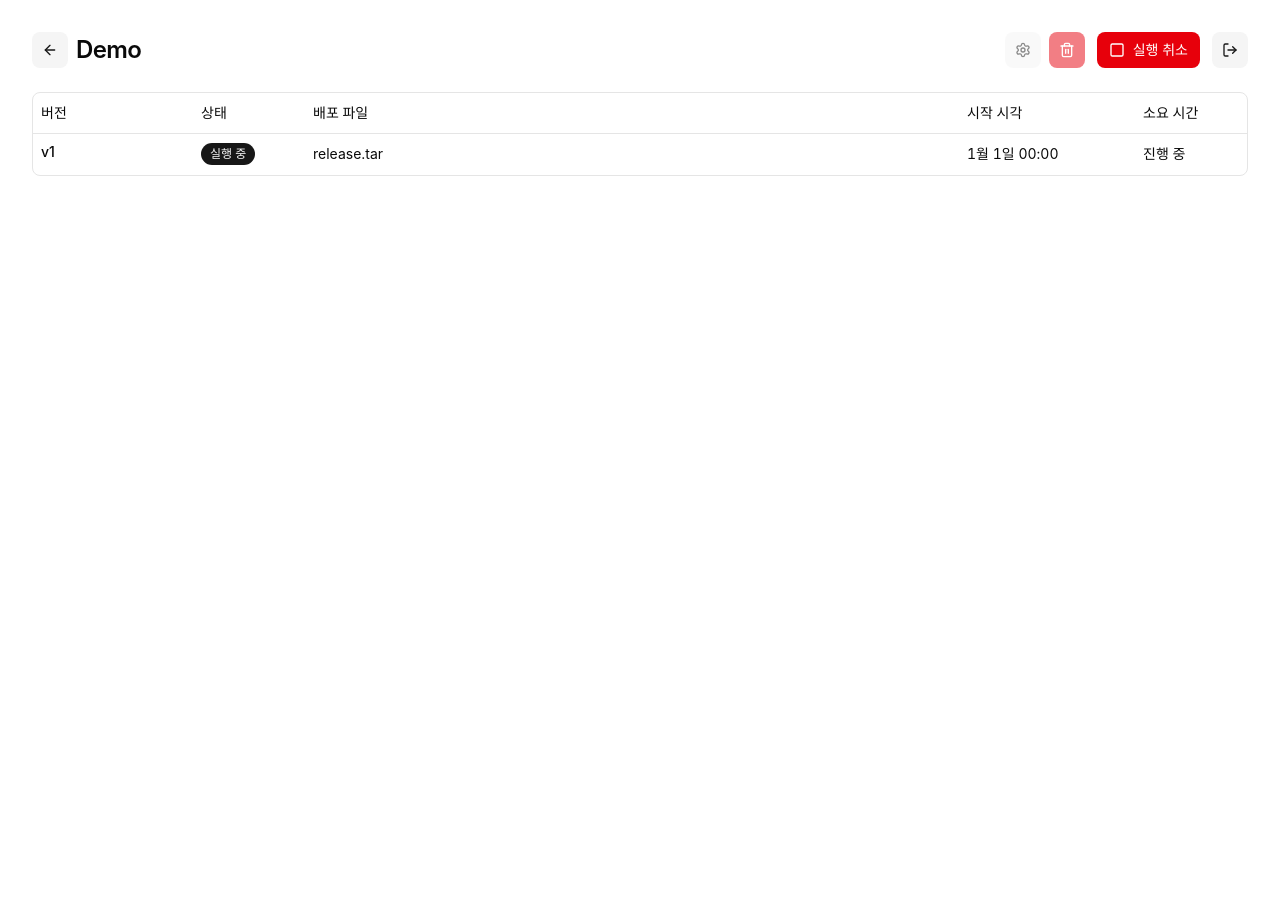
it: React deployment console › project switching discards a late log response and clears the selected file
Expected: the heading "Demo" is shown, [76, 32, 141, 68]
Click the link "v1": (48, 152) [41, 142, 55, 162]
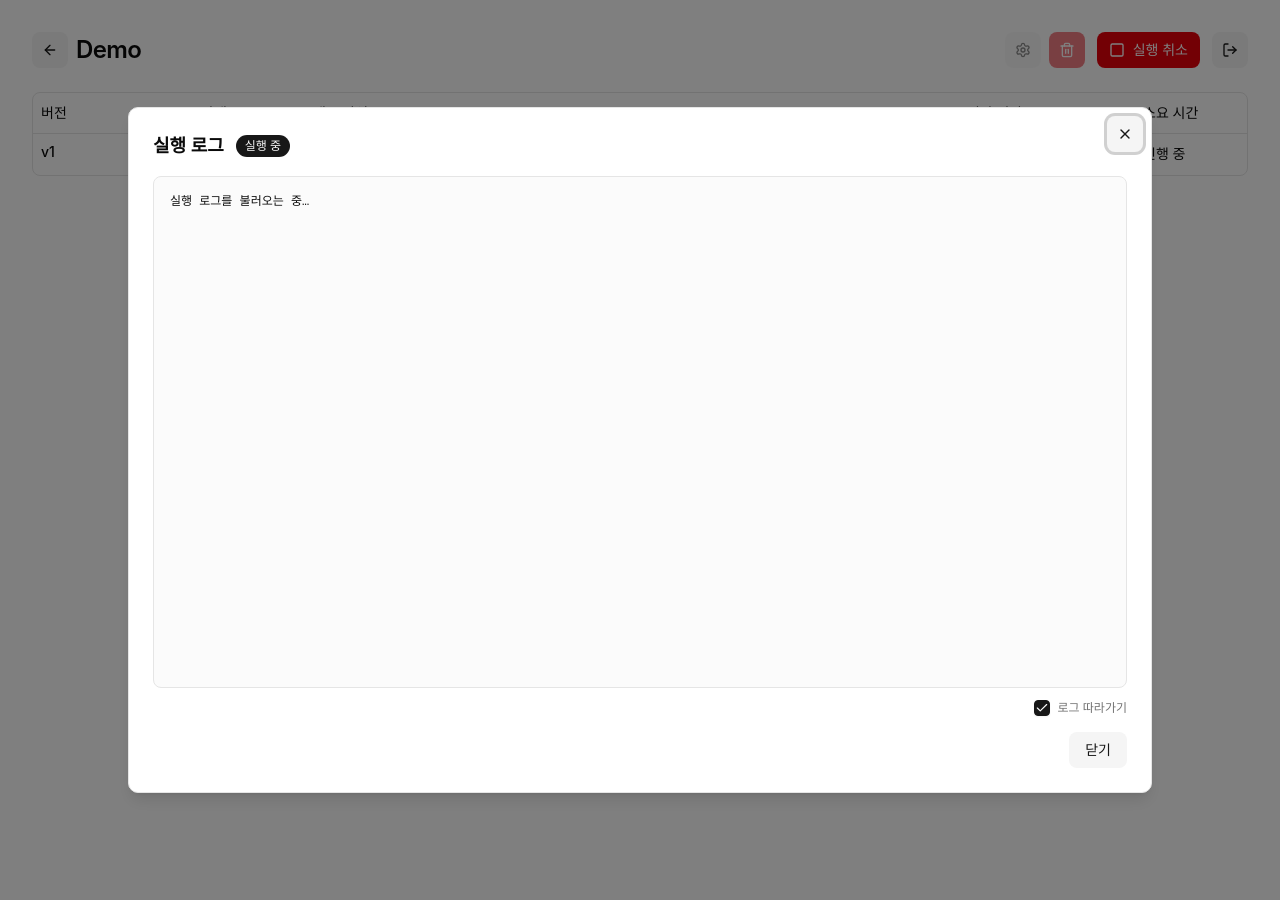
Click the button "닫기": (1098, 750) [1069, 732, 1127, 768]
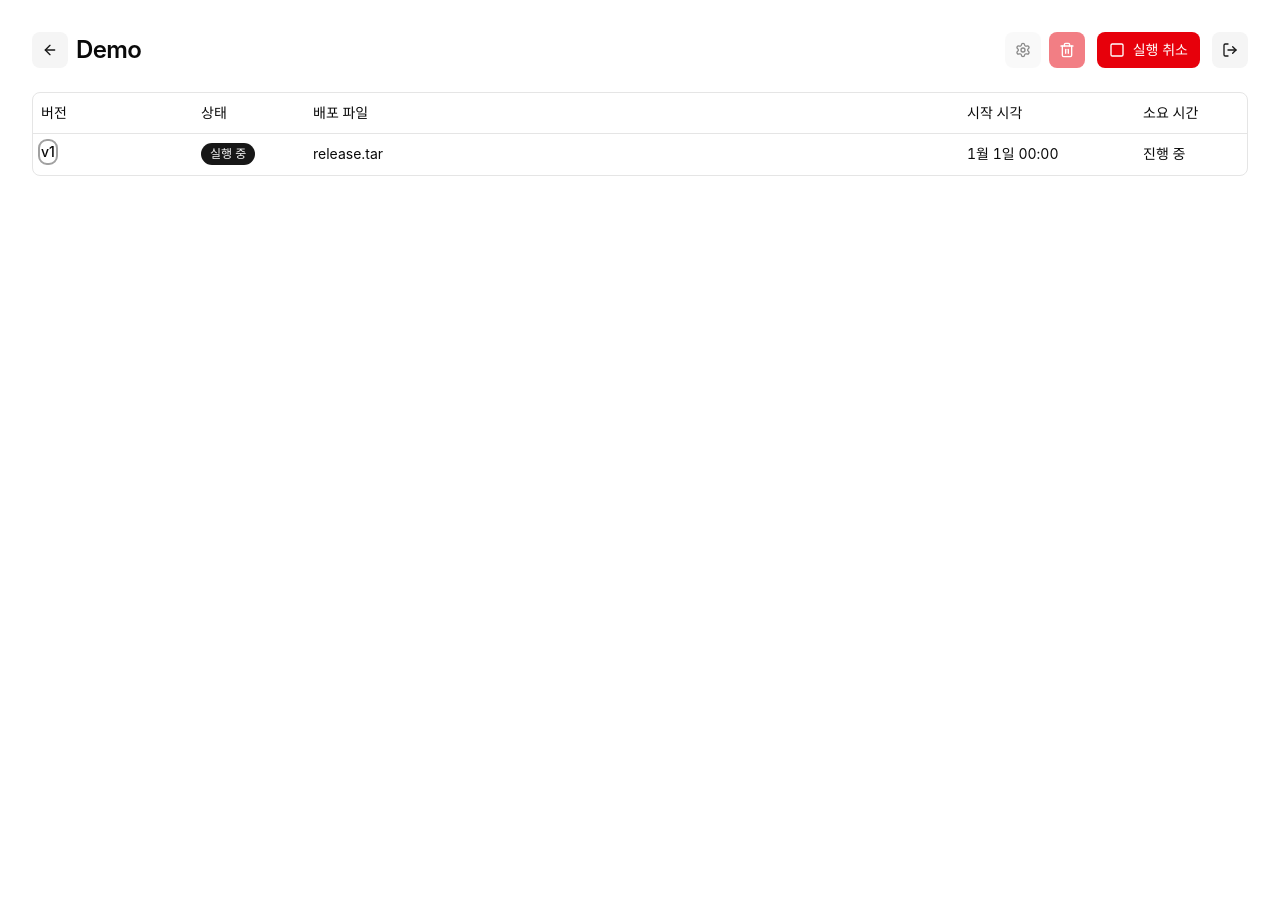
Expected: the table named "배포 이력" is shown, [33, 93, 1247, 174]
Click the link named "프로젝트 목록": (50, 50) [32, 32, 68, 68]
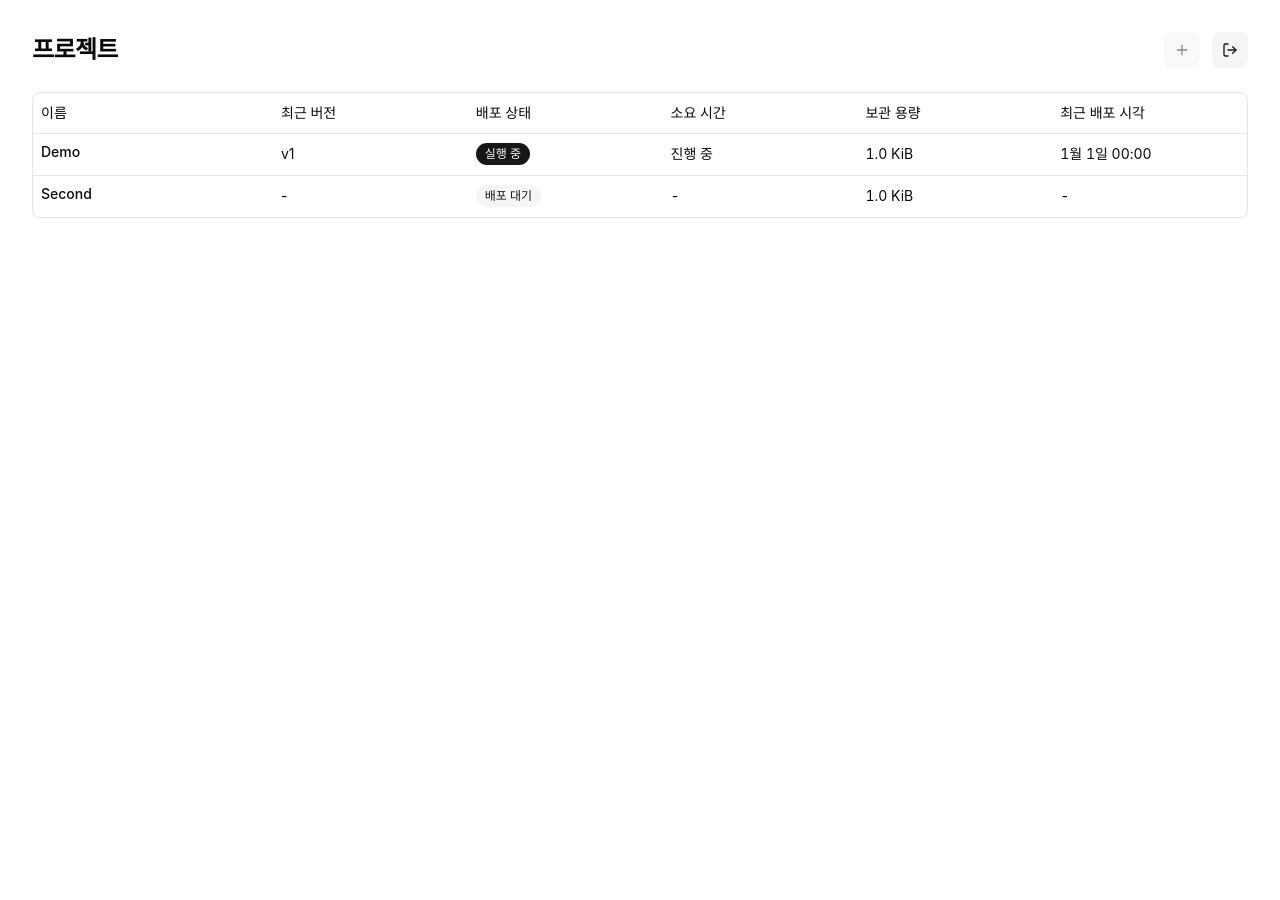
Click the link "Second": (66, 194) [41, 184, 92, 204]
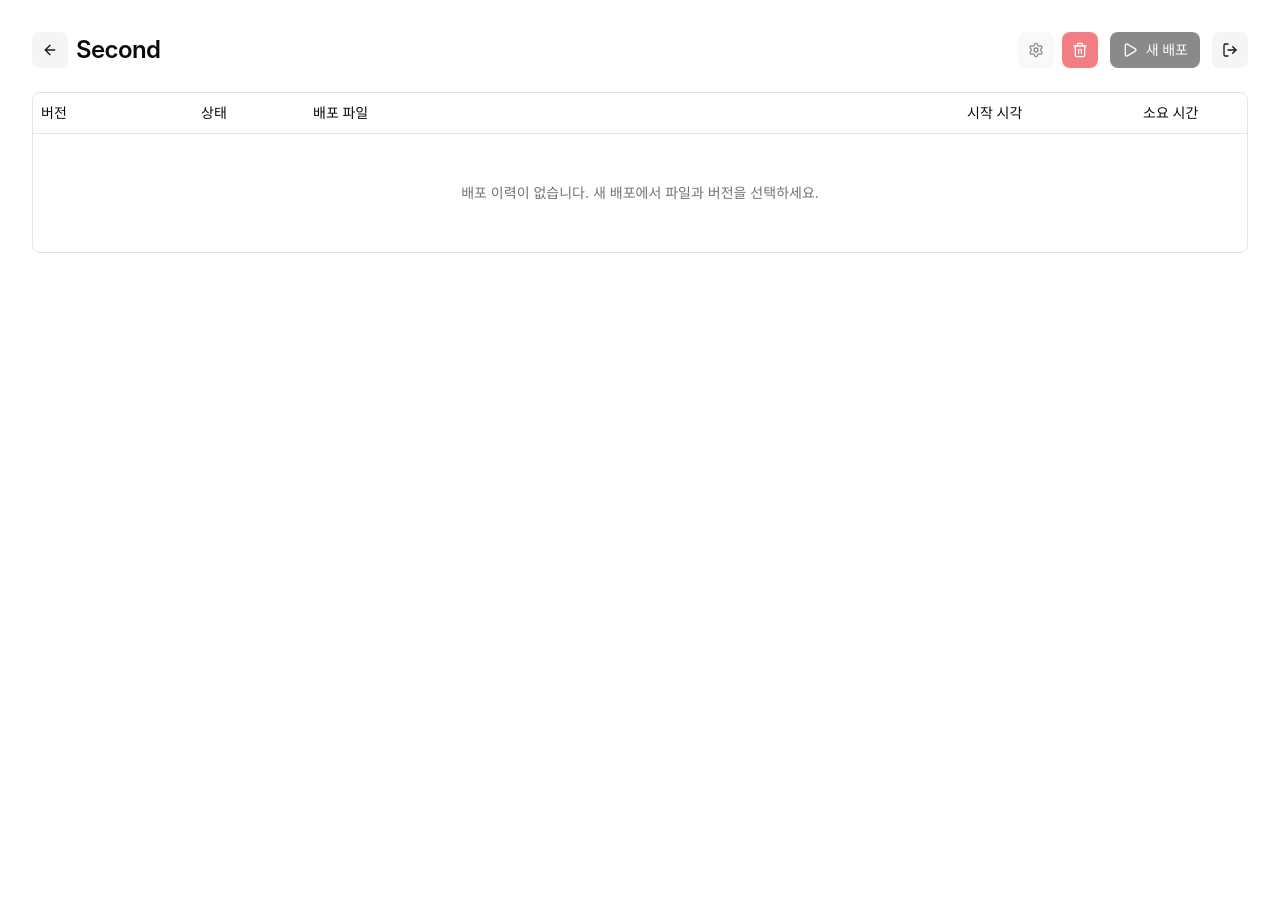
Expected: the field labelled "배포 실행 로그" is not shown
Result: the heading "Second" is shown at [76, 32, 160, 68]
